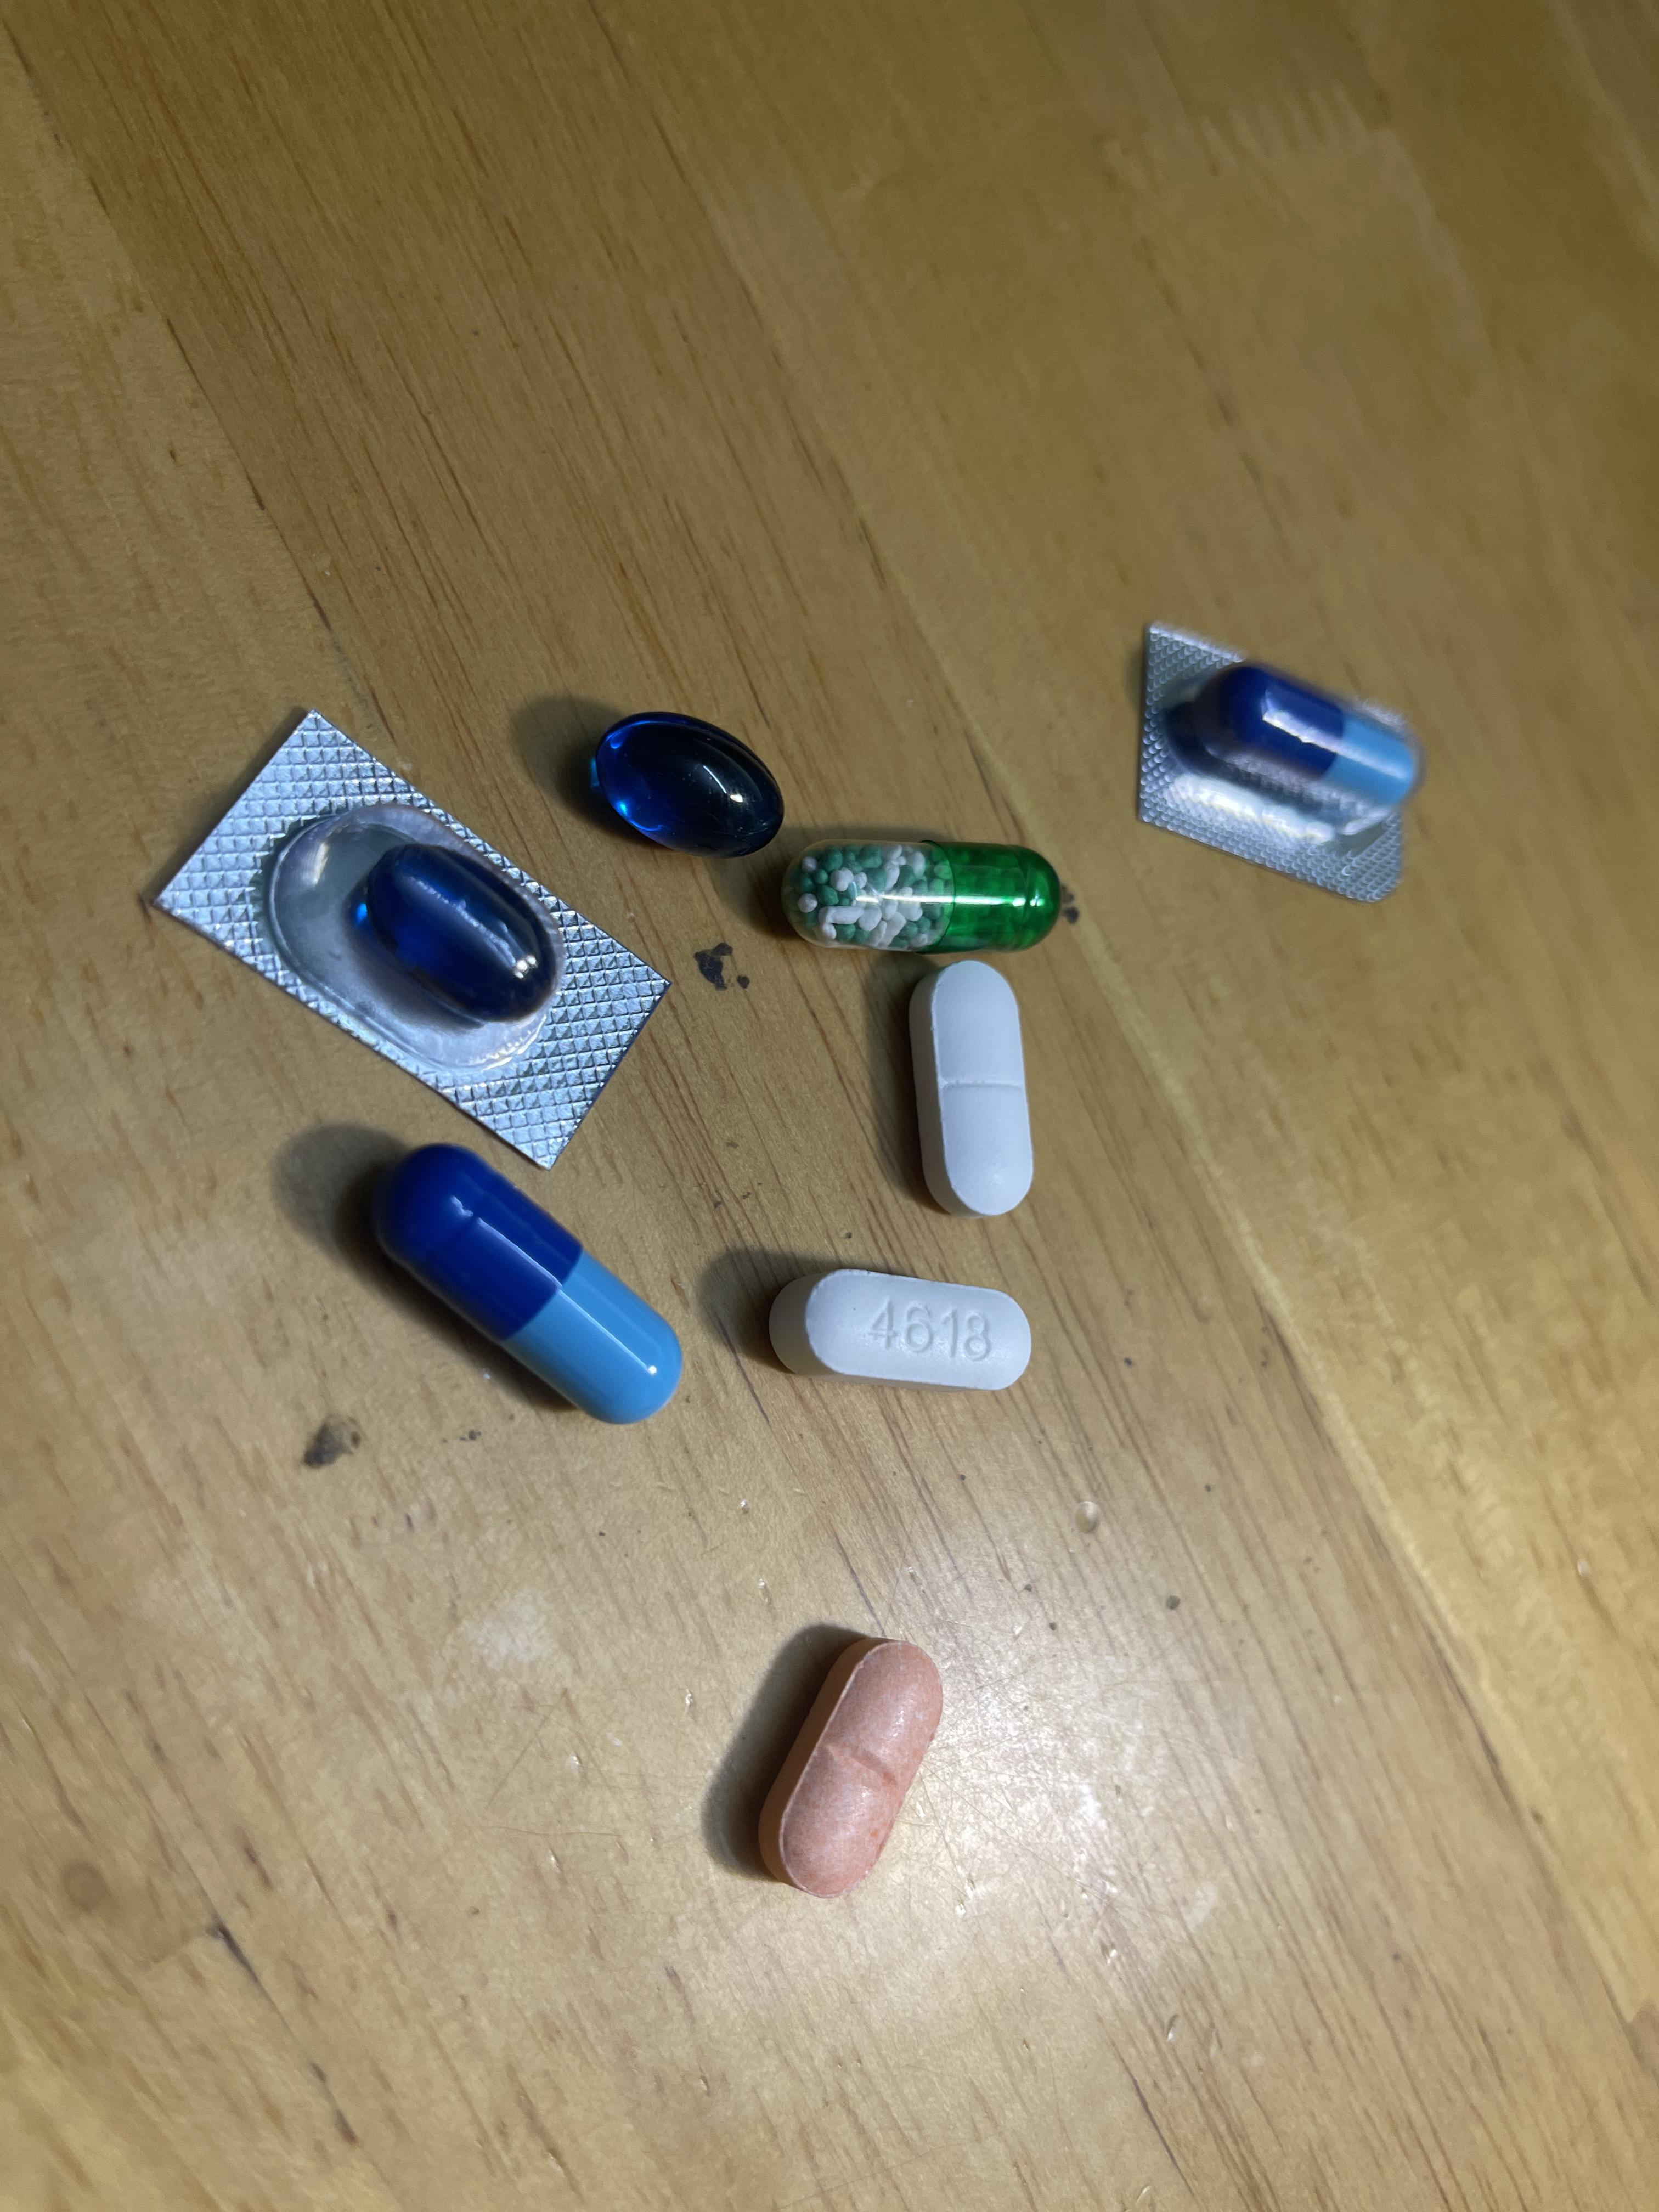Lincomyxin_500mg: (359, 848, 551, 1021), (592, 714, 786, 853)
Loratadine_10mg: (756, 1632, 950, 1905)
Paracetamol_350mg: (917, 963, 1035, 1214)
Paracetamol_500mg: (805, 1270, 1026, 1388)
Paracetamol_650mg: (796, 841, 1054, 951)
pill: (383, 1157, 676, 1421), (1183, 667, 1415, 833)
